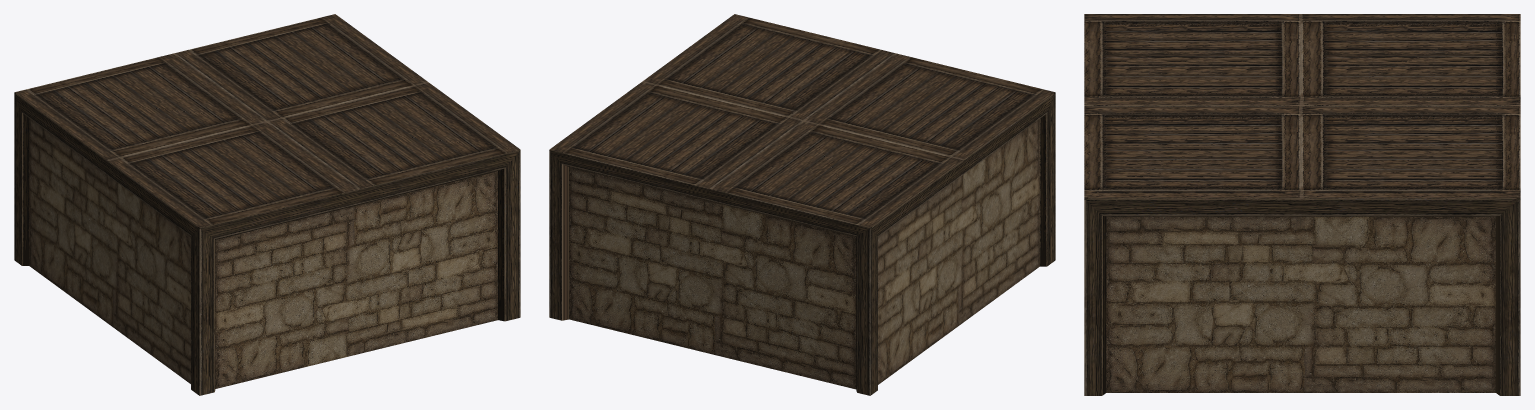
Rendered from House_8X8_04b.fbx.
The picture shows the model from 3 angles, left to right: view 1: azimuth 30°, elevation 25°; view 2: azimuth 150°, elevation 25°; view 3: azimuth 270°, elevation 25°; orthographic projection. The views are drawn at different scales.
Visible parts, largest first — view 1: House_8X8_04b; view 2: House_8X8_04b; view 3: House_8X8_04b.
Boxes of the visible parts, x1,y1,x2,y2 form: House_8X8_04b: (14, 14, 520, 395); House_8X8_04b: (549, 14, 1055, 395); House_8X8_04b: (1084, 14, 1520, 395).
Size of the model in its own units: 8 by 4 by 8.
